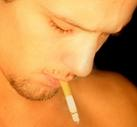smoke: (58, 77, 81, 125)
